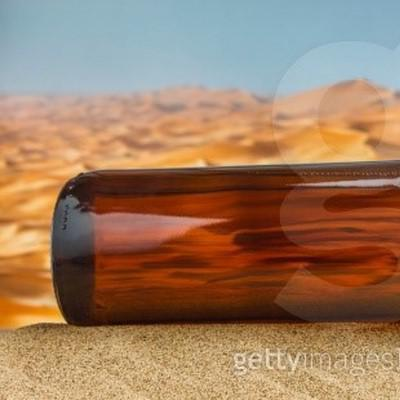beer: (47, 158, 400, 327)
